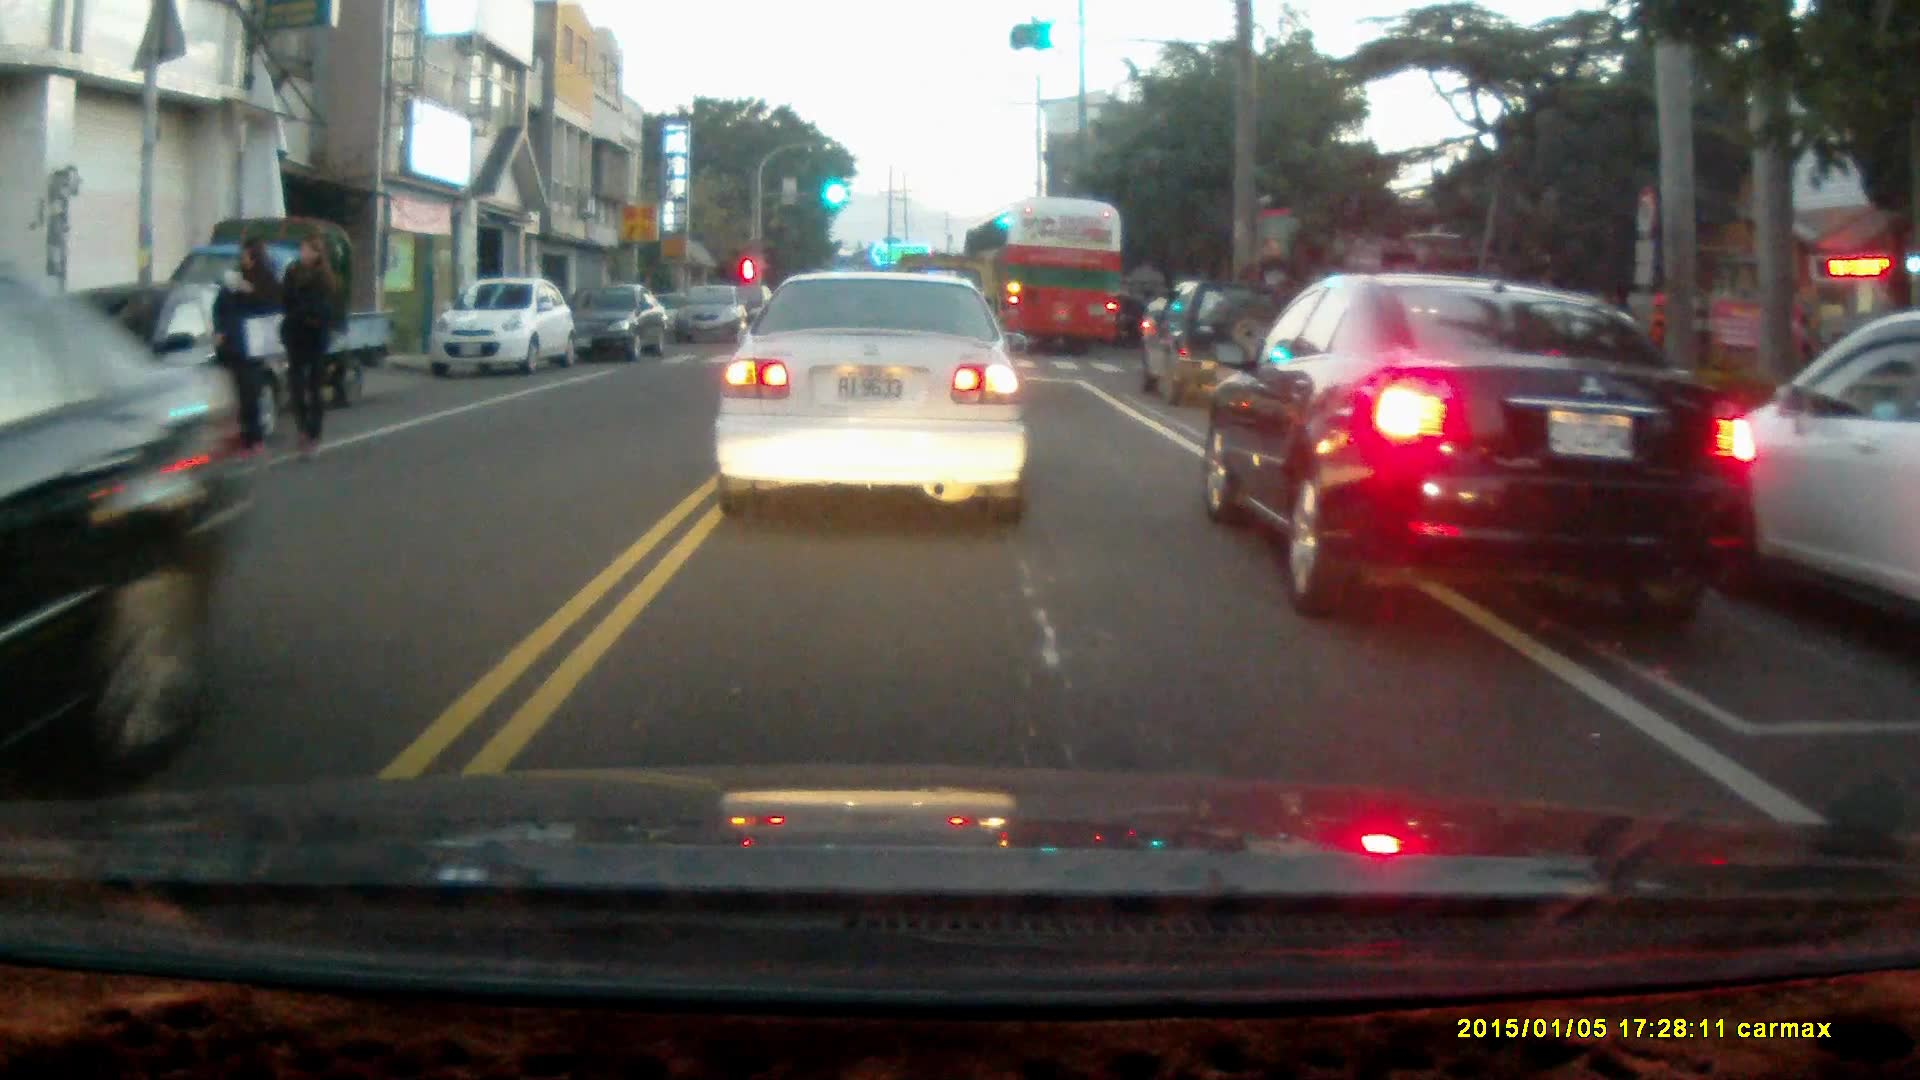pedestrian: (211, 236, 283, 460), (278, 234, 335, 448)
vehicle: (1203, 274, 1762, 613), (1, 271, 232, 800), (711, 265, 1030, 525), (1674, 309, 1920, 608), (158, 213, 402, 412), (963, 200, 1122, 358), (1147, 279, 1283, 406), (432, 279, 580, 379), (563, 278, 673, 365), (675, 286, 755, 344)
